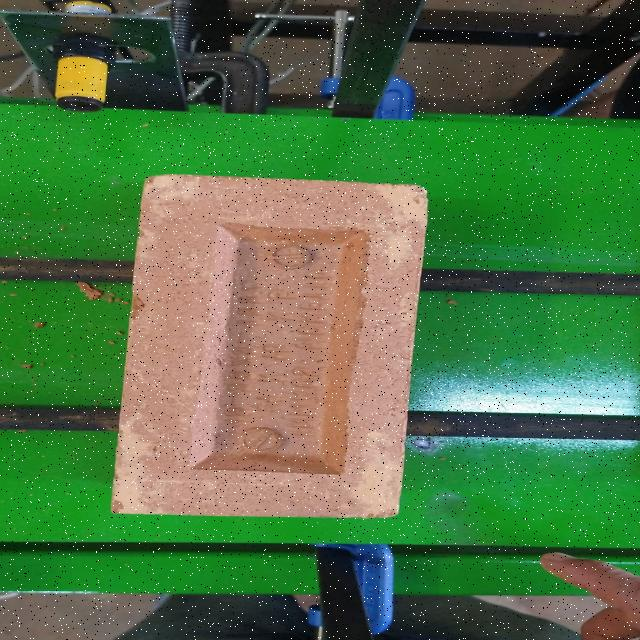bricks: (111, 173, 430, 520)
